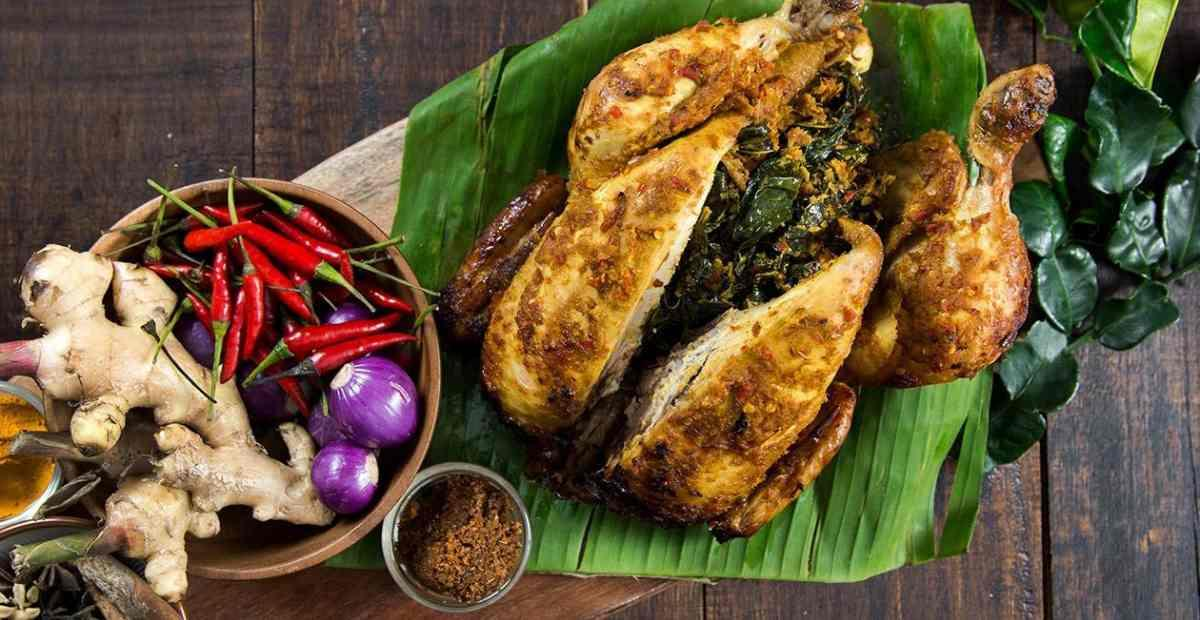ayam_betutu: (437, 1, 1056, 543)
